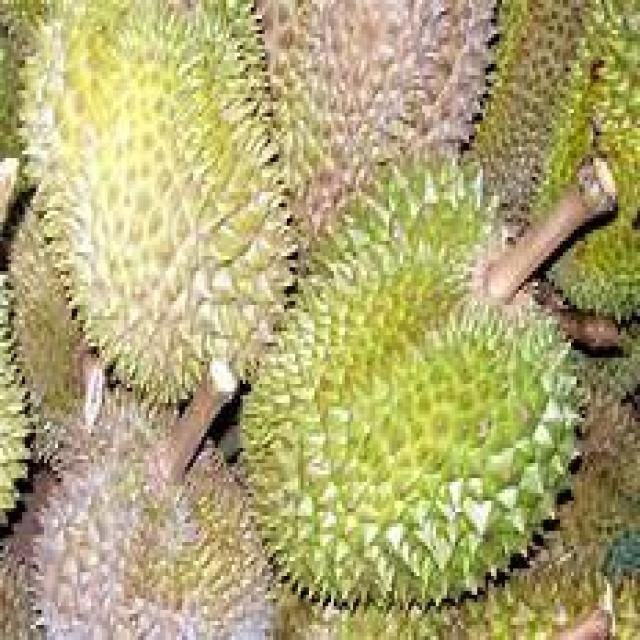immature: (236, 166, 584, 608), (14, 0, 298, 399)
